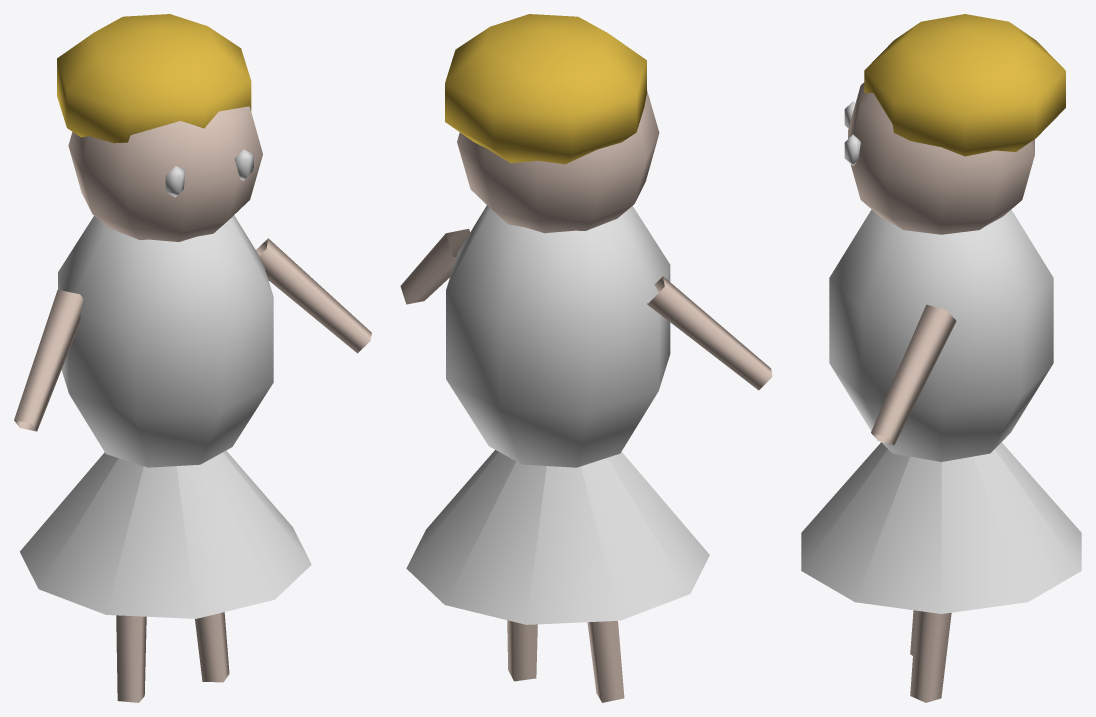
File: ville_cos_fam_fee.glb
The picture shows the model from 3 angles, left to right: view 1: azimuth 30°, elevation 25°; view 2: azimuth 150°, elevation 25°; view 3: azimuth 270°, elevation 25°; orthographic projection. The views are drawn at different scales.
Parts seen in each view (by area): view 1: cos_fam_fee; view 2: cos_fam_fee; view 3: cos_fam_fee.
Boxes of the visible parts, x1,y1,x2,y2 form: cos_fam_fee: (14,14,371,702); cos_fam_fee: (400,14,772,702); cos_fam_fee: (801,14,1081,702).
Size of the model in its own units: 0.2111 by 0.3647 by 0.1427.
